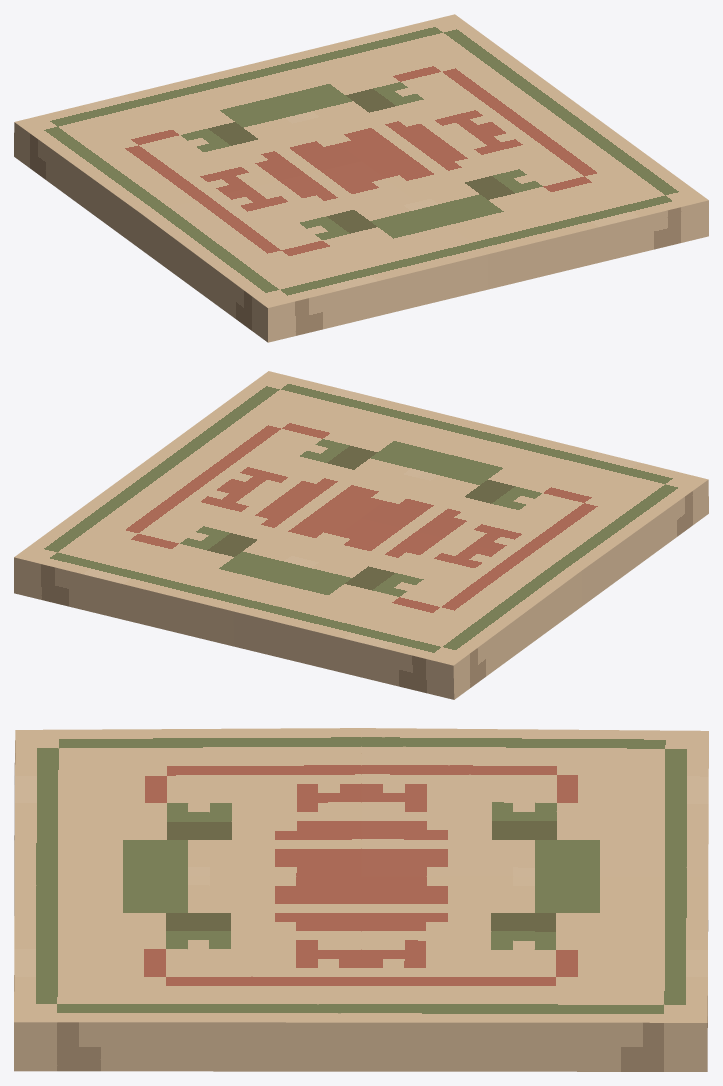
File: pizza_box.fbx
3 renders of one model, top to bottom at view 1: azimuth 30°, elevation 25°; view 2: azimuth 150°, elevation 25°; view 3: azimuth 270°, elevation 25°, orthographic. The views are drawn at different scales.
Visible parts, largest first — view 1: PizzaBox; view 2: PizzaBox; view 3: PizzaBox.
Part boxes in pixels (x1,y1,x2,y2): PizzaBox: (14,14,708,342); PizzaBox: (14,371,708,699); PizzaBox: (14,728,708,1071).
Size of the model in its own units: 169 by 13.62 by 169.
Materials: 1 (1 with a texture image).
